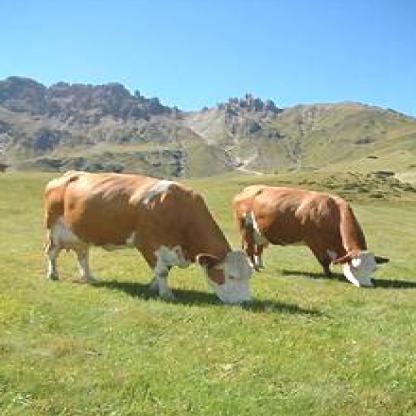cow: (40, 171, 252, 304), (235, 184, 390, 289)
